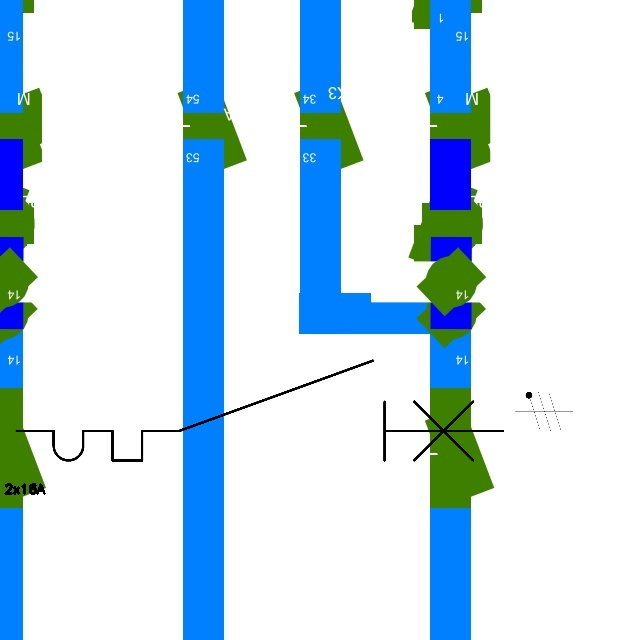interruptor_termomagnetico: (4, 348, 515, 473)
